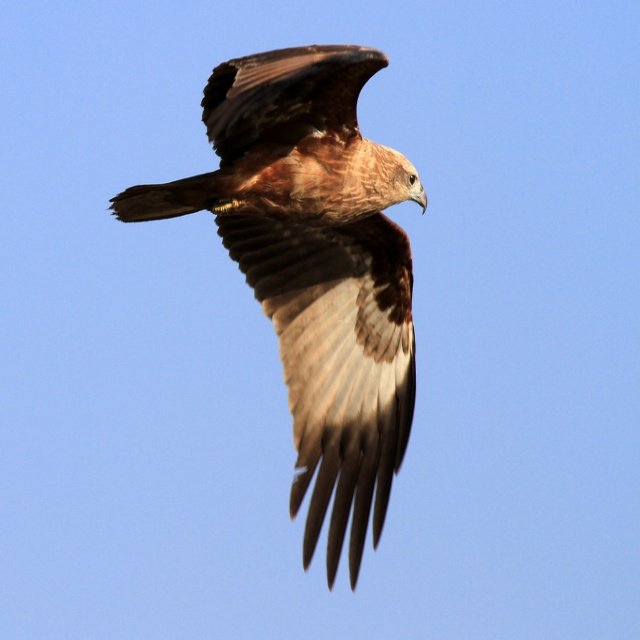Eagle: (106, 43, 434, 594)
